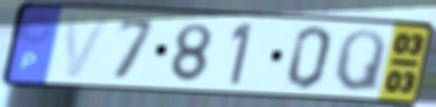0: (283, 23, 335, 93)
1: (227, 21, 254, 89)
7: (114, 17, 159, 82)
8: (169, 21, 218, 83)
Q: (331, 27, 389, 95)
V: (62, 12, 114, 81)
